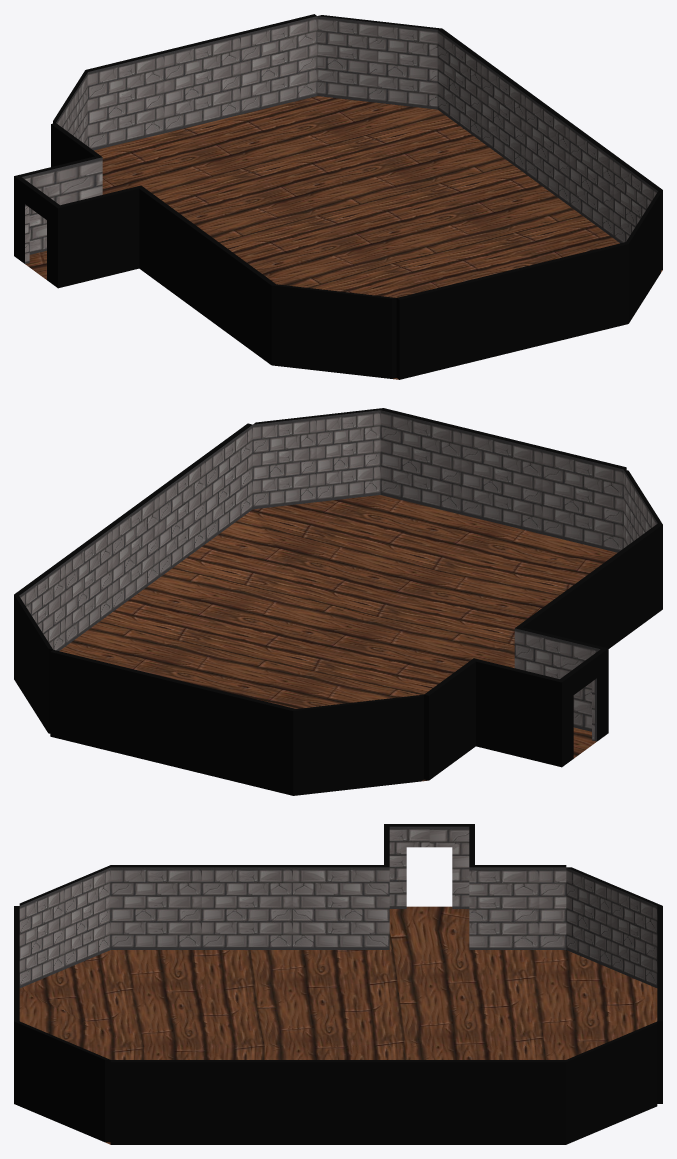
The model's file is wall 2.fbx.
3 renders of one model, top to bottom at view 1: azimuth 30°, elevation 25°; view 2: azimuth 150°, elevation 25°; view 3: azimuth 270°, elevation 25°, orthographic. The views are drawn at different scales.
Visible parts, largest first — view 1: Plane085, Plane075, Plane079, Plane066, Plane076, Plane070, Plane069, Plane077, Plane071, Plane064, Plane063, Plane067 (+10 smaller); view 2: Plane085, Plane074, Plane080, Plane073, Plane077, Plane064, Plane071, Plane069, Plane070, Plane076, Plane062, Plane082 (+10 smaller); view 3: Plane085, Plane073, Plane066, Plane080, Plane074, Plane075, Plane079, Plane068, Plane078, Plane086, Plane067, Plane081 (+5 smaller).
Boxes of the visible parts, x1,y1,x2,y2 form: Plane085: (25, 96, 662, 379); Plane075: (271, 284, 396, 378); Plane079: (317, 15, 441, 109); Plane066: (99, 185, 187, 300); Plane076: (396, 279, 475, 379); Plane070: (238, 14, 317, 114); Plane069: (162, 33, 240, 133); Plane077: (550, 242, 628, 342); Plane071: (473, 260, 552, 360); Plane064: (86, 51, 164, 150); Plane063: (36, 191, 100, 288); Plane067: (183, 220, 231, 332); Plane085: (59, 495, 617, 781); Plane074: (293, 694, 423, 795); Plane080: (253, 408, 382, 509); Plane073: (424, 658, 518, 780); Plane077: (380, 408, 464, 514); Plane064: (212, 689, 295, 795); Plane071: (461, 428, 545, 534); Plane069: (131, 669, 214, 775); Plane070: (50, 650, 133, 756); Plane076: (542, 447, 626, 552); Plane062: (516, 664, 585, 767); Plane082: (108, 492, 159, 611); Plane085: (19, 906, 657, 1144); Plane073: (469, 845, 566, 949); Plane066: (293, 845, 389, 949); Plane080: (14, 1021, 110, 1142); Plane074: (566, 867, 662, 987); Plane075: (19, 865, 110, 987); Plane079: (566, 1021, 657, 1144); Plane068: (110, 865, 201, 949); Plane078: (475, 1060, 566, 1144); Plane086: (110, 1060, 201, 1144); Plane067: (202, 865, 292, 949); Plane081: (384, 1060, 474, 1144).
Bounding box in the file's own units: 6336 × 1024 × 7296.
